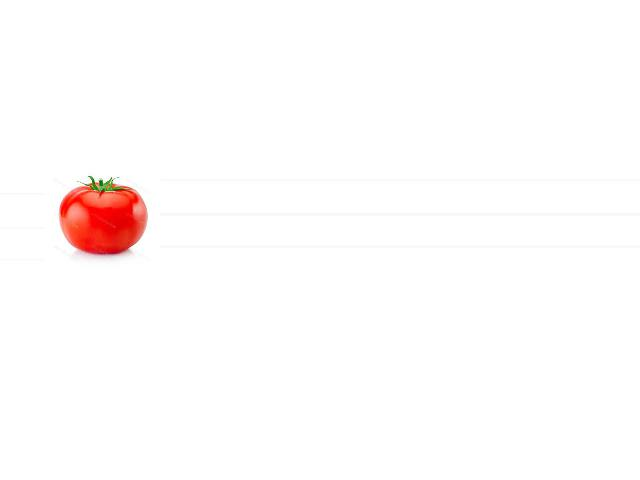tomato: (58, 183, 147, 252)
